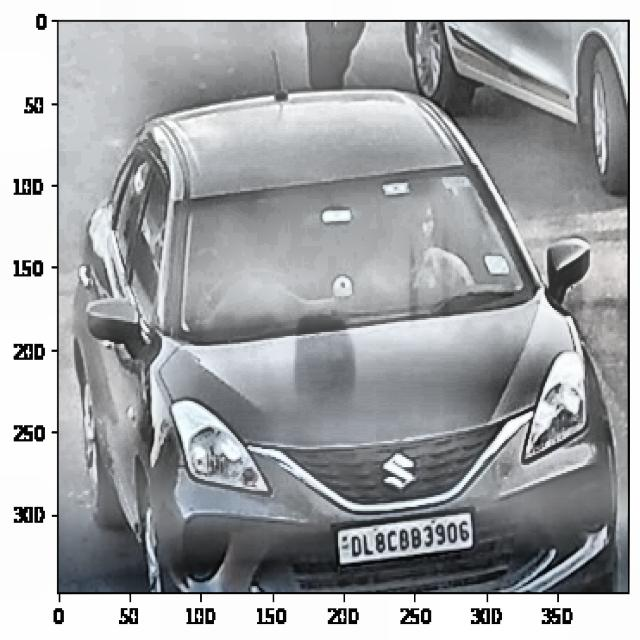license_plate: (345, 510, 474, 558)
